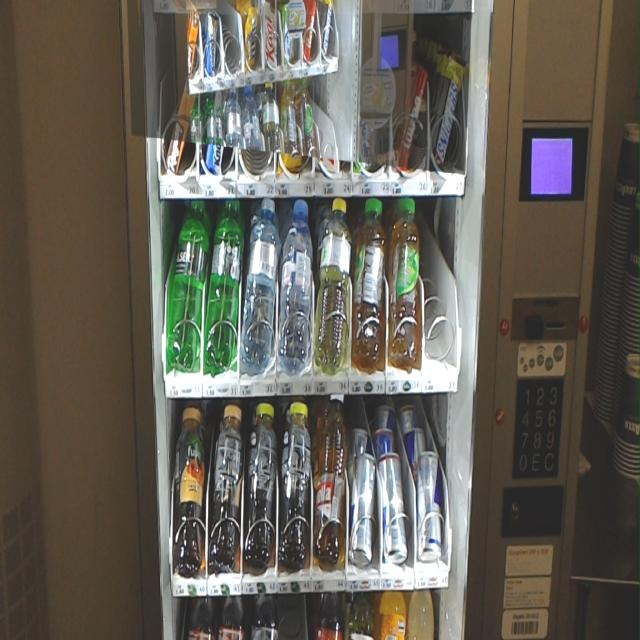evian___50__3068320353500: (279, 198, 312, 373)
fuse_lemon__50__5449000235947: (243, 402, 277, 563), (279, 399, 311, 567)
fuse_peach__50__5449000236623: (210, 402, 242, 580), (174, 406, 206, 578)
redbull___33__90162909: (377, 451, 408, 566), (413, 451, 442, 563), (348, 452, 376, 566)
rivella_rot__50__7610097111072: (314, 390, 347, 576)
valser_classic__50__76404160: (163, 198, 210, 377), (204, 197, 241, 372)
valser_still__50__7610335002575: (242, 196, 278, 375)
valser_vivabirne__50__7610335001530: (312, 196, 351, 372)
volvic_teeminze__50__3057640335648: (350, 198, 386, 378), (387, 196, 420, 367)
